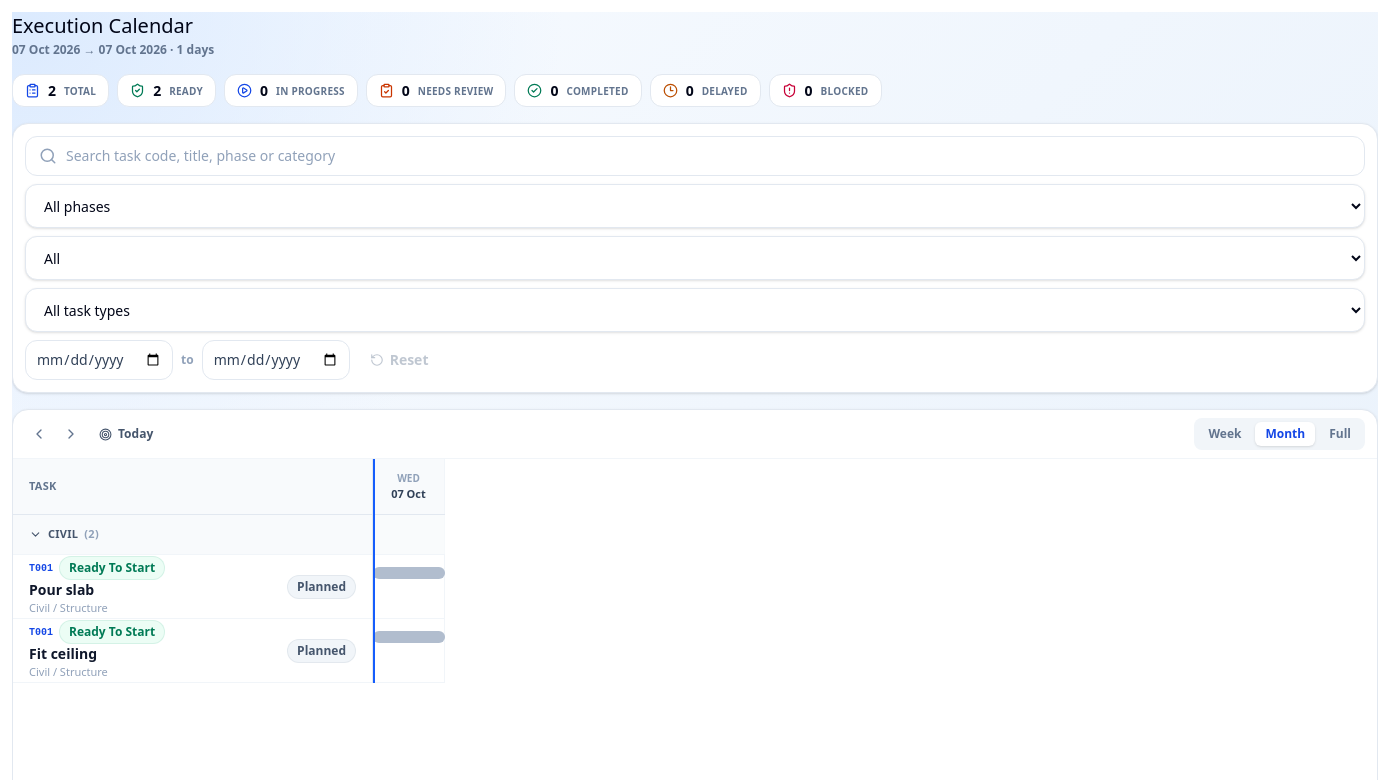
Test: ExecutionCalendarView › narrows the list by search
Expected: the text "Pour slab" is shown, [29,580,94,599]
Type "ceiling" into the field with placeholder "Search task code, title, phase or category".
click(695, 156); type("ceiling")  # box [25,136,1365,176]
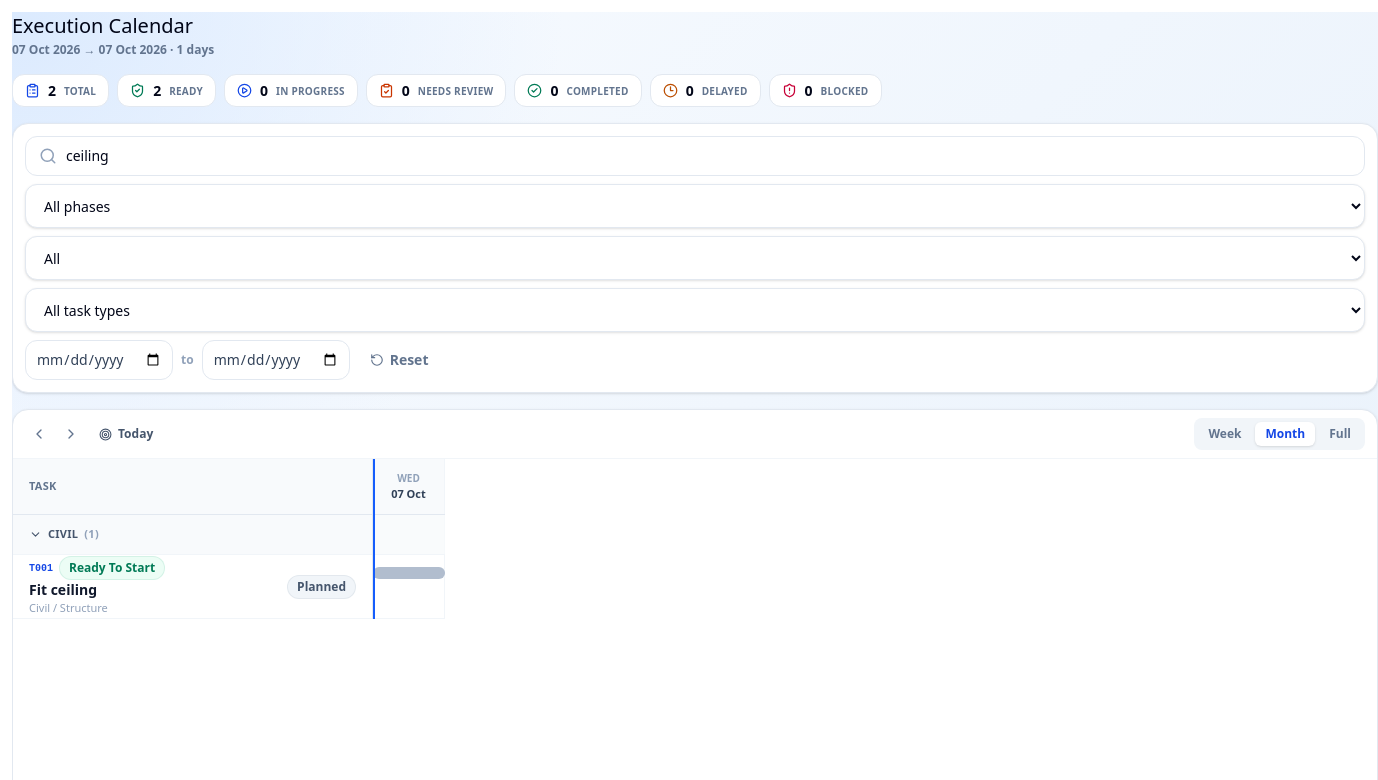
Expected: the text "Fit ceiling" is shown, [29,580,97,599]
Result: the button "Pour slab" is gone
